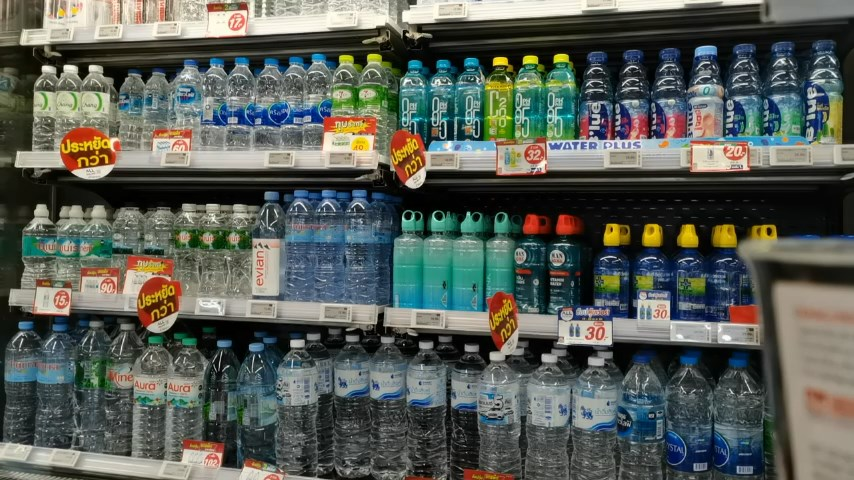1-1: (74, 321, 136, 455)
